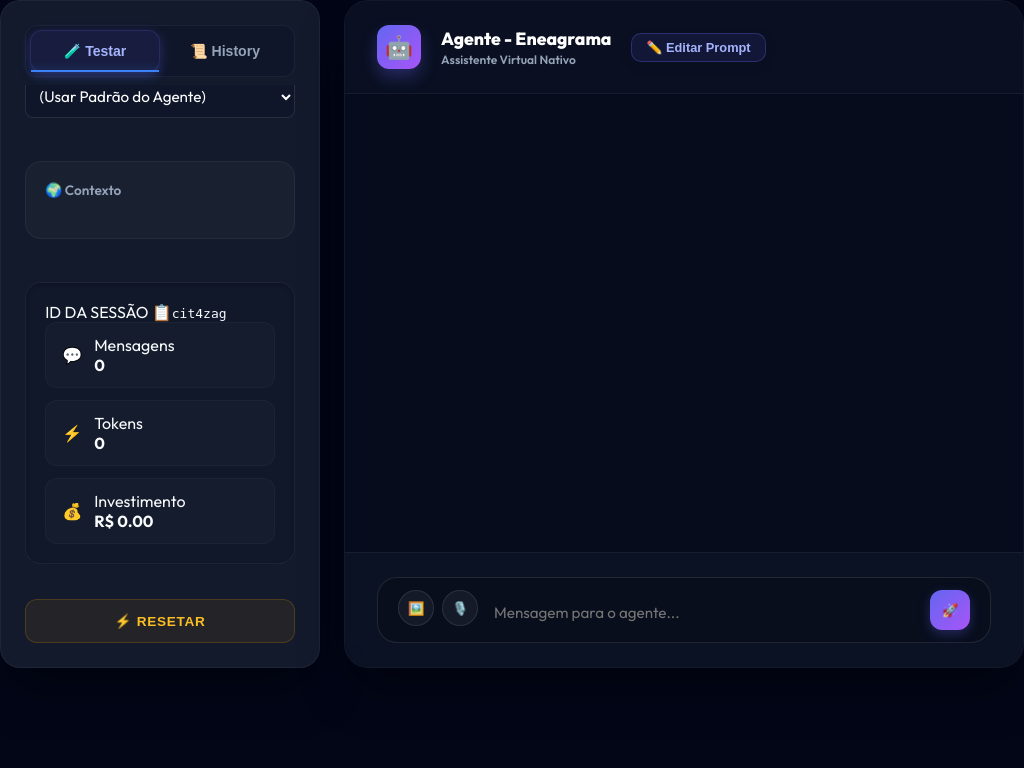
ChatPlayground Component › should show success toast and reset session when reset button is clicked
(page scrolled)
Click the button "⚡ Resetar" at (160, 621), box top-left (25, 599), bottom-right (295, 643)
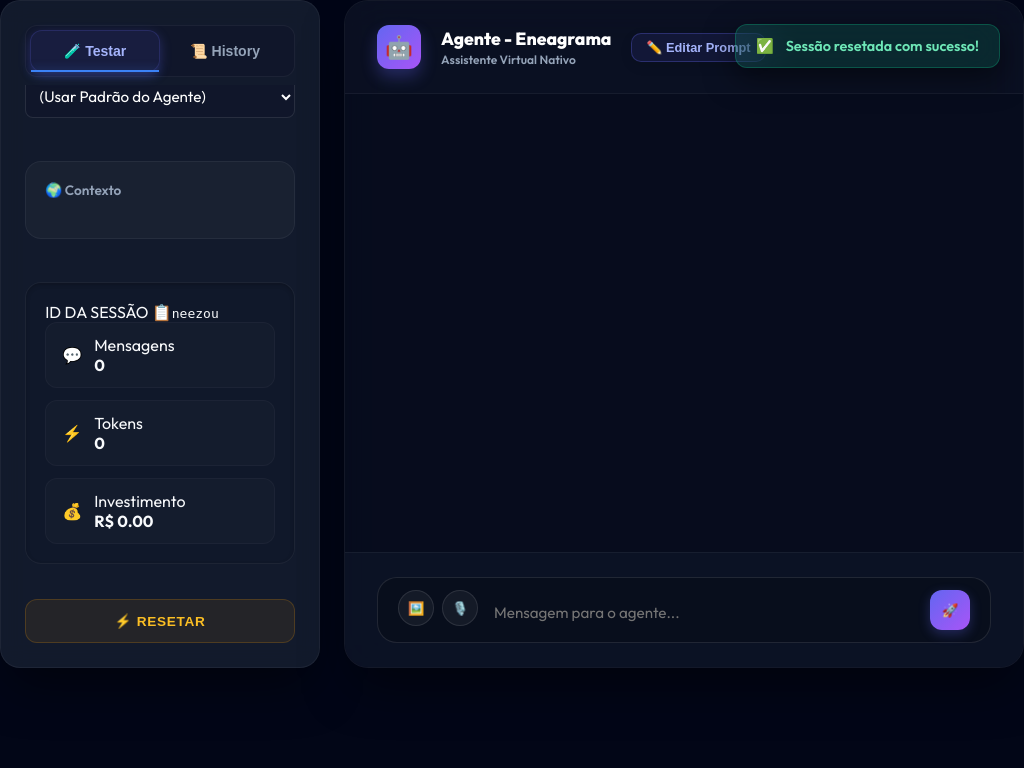
Expected: the text "Sessão resetada com sucesso!" is shown, top-left (786, 37), bottom-right (979, 55)
